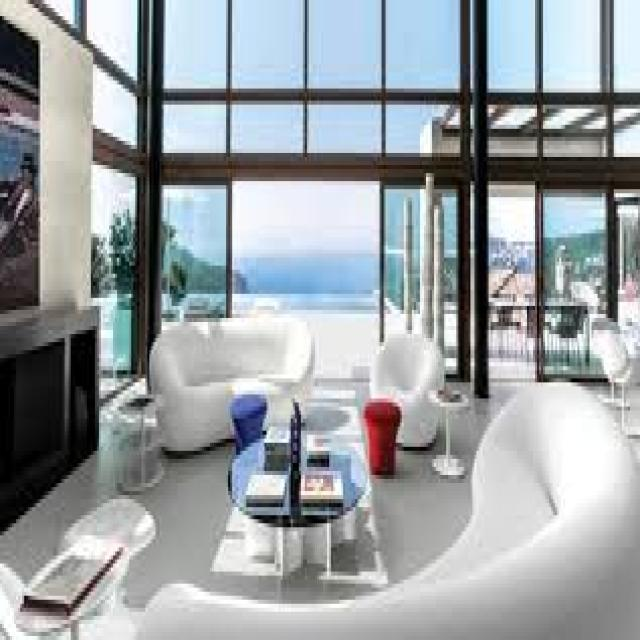Chair: (365, 321, 444, 455)
Sofa: (100, 374, 640, 640), (145, 311, 316, 451)
Table: (234, 422, 370, 576)
